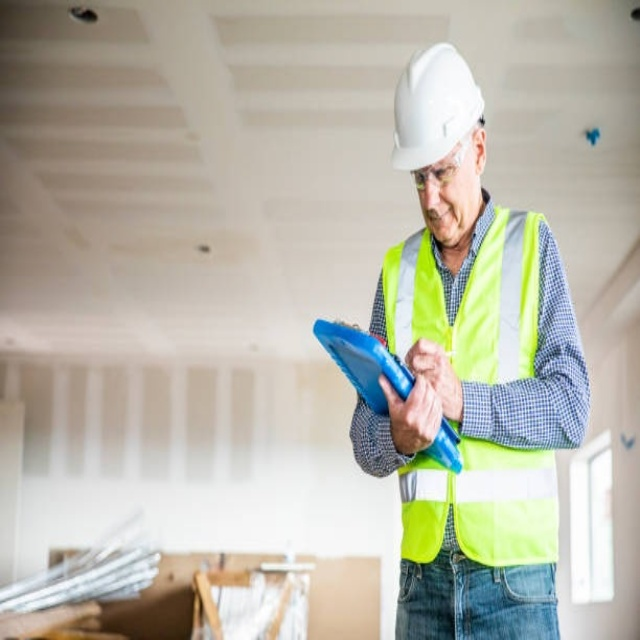Gafas: (409, 134, 474, 193)
Sin_guantes: (379, 364, 440, 463), (404, 334, 464, 417)
Sin_mascara: (421, 204, 460, 242)
